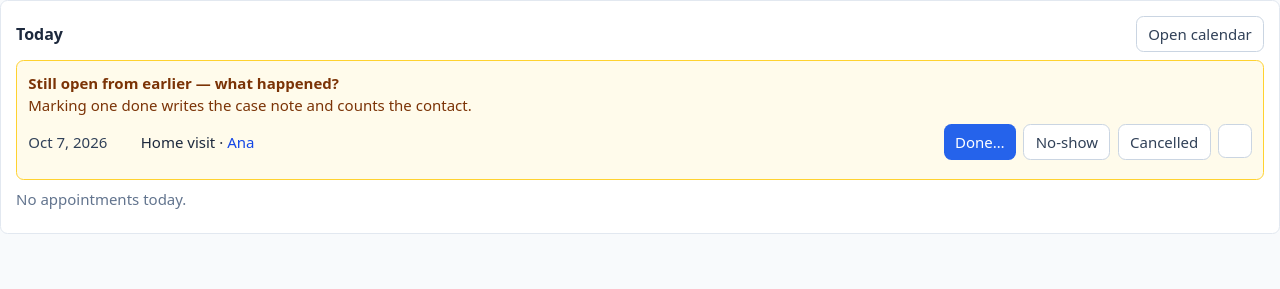
Test: Today card › lists past appointments nobody marked, with Done, No-show and Cancelled (S-09)
The width and height of the screenshot is (1280, 289).
Expected: the list named "Still open from earlier" shows "Home visit", [141, 132, 215, 152]
Expected: the button with aria-label "Cancelled (Home visit)" is shown, [1118, 124, 1210, 160]
Click the button named "More (Home visit)": (1235, 141) [1218, 124, 1252, 158]
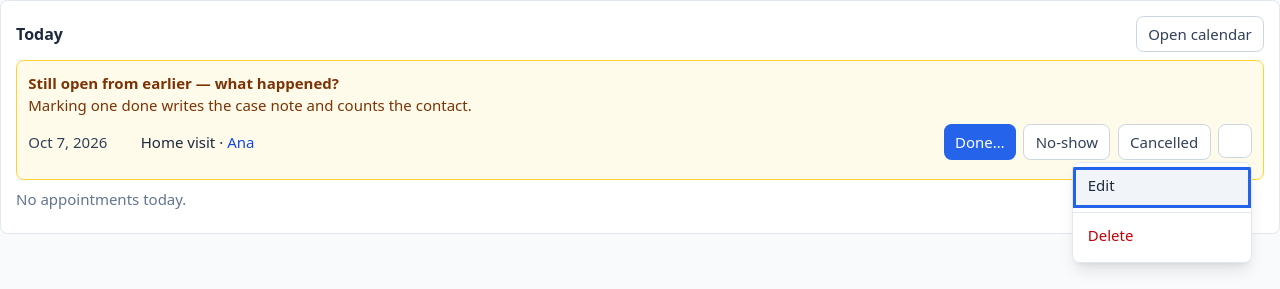
Expected: the menu items read "Edit", "Delete", in this order, [1073, 167, 1251, 208]; [1073, 216, 1251, 258]
